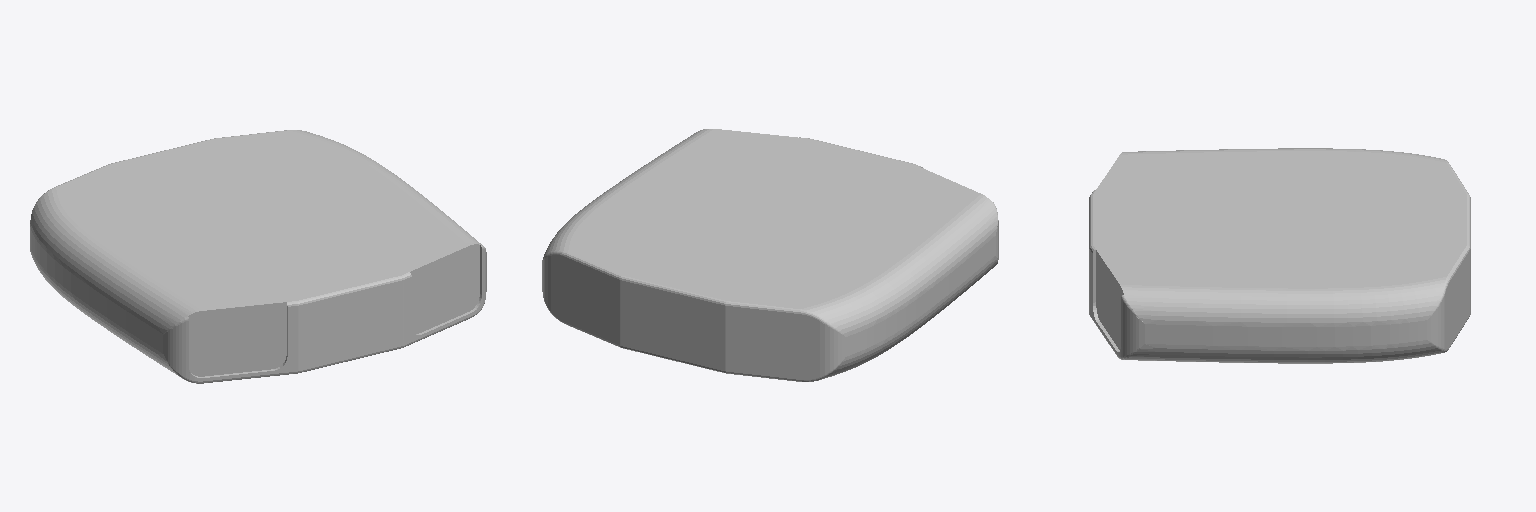
File: MainBody.obj
The picture shows the model from 3 angles: view 1: azimuth 30°, elevation 25°; view 2: azimuth 150°, elevation 25°; view 3: azimuth 270°, elevation 25°; orthographic projection.
Visible parts, largest first — view 1: MainBody; view 2: MainBody; view 3: MainBody.
Boxes of the visible parts, x1,y1,x2,y2 form: MainBody: [30, 130, 486, 383]; MainBody: [542, 129, 998, 381]; MainBody: [1089, 148, 1470, 363].
Bounding box in the file's own units: 106 × 22 × 105.